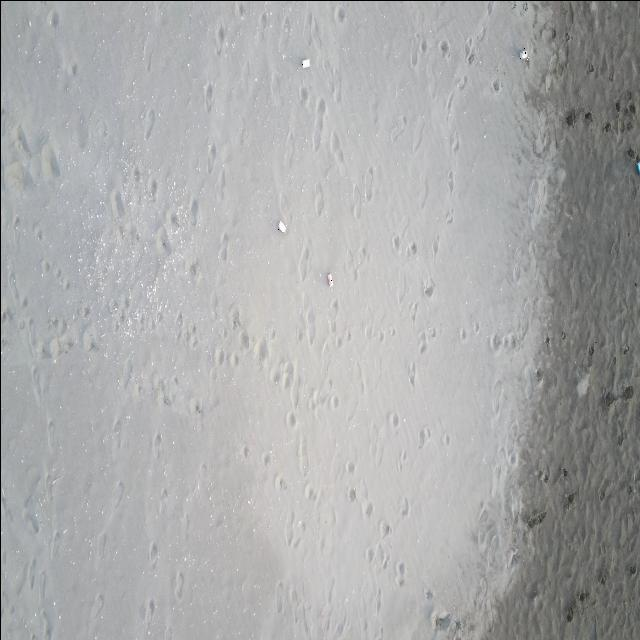Garbage: (276, 221, 286, 232), (301, 57, 310, 67), (520, 48, 527, 59), (327, 272, 332, 286), (635, 161, 639, 173)
